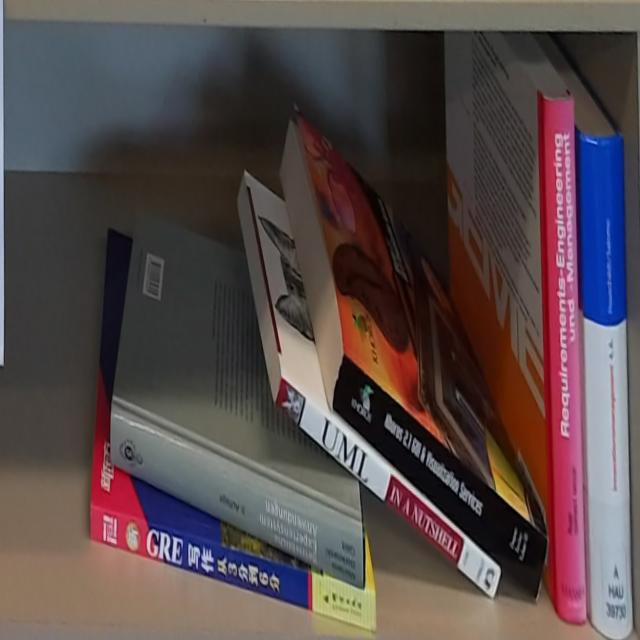Book Spine: (272, 370, 503, 607), (333, 352, 548, 606), (111, 413, 366, 594), (88, 505, 377, 638), (579, 136, 633, 640), (542, 96, 587, 626)
